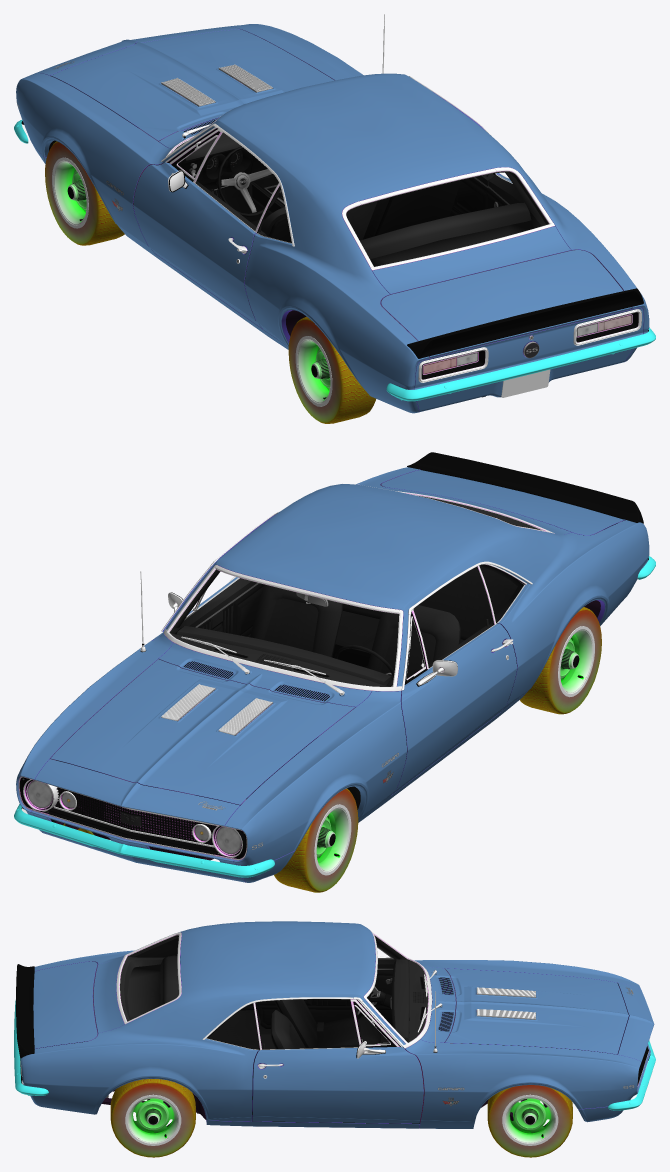
File: Unity2Skfb.gltf
3 views of the same model, one above another, from view 1: azimuth 30°, elevation 25°; view 2: azimuth 150°, elevation 25°; view 3: azimuth 270°, elevation 25° (orthographic). The views are drawn at different scales.
Parts seen in each view (by area): view 1: Chassis 6, FendersR 6, Hood 6, Interior 5, Boot 6, DoorL 4, FenderFL 6, BumperChassisR 6, Tire_Regular_L_FL 1 (×2), Spoiler 6, WheelFL 6 (×2), BumperR 6 (+6 smaller); view 2: Chassis 6, Hood 6, Interior 5, FenderFL 6, FendersR 6, Grille 1, DoorL 4, Tire_Regular_L_FL 1 (×2), Boot 6, Spoiler 6, FenderFR 6, WheelFL 6 (×2) (+3 smaller); view 3: Chassis 6, FendersR 6, DoorR 4, FenderFR 6, Hood 6, Interior 5, Tire_Regular_L_FL 1 (×2), Boot 6, WheelFL 6 (×2), FenderFL 6, DoorL 4, Grille 1 (+4 smaller).
Part boxes in pixels (x1,y1,x2,y2): Chassis 6: (51,14,632,397); FendersR 6: (155,174,649,413); Hood 6: (50,29,334,140); Interior 5: (174,132,548,266); Boot 6: (381,250,631,357); DoorL 4: (133,129,266,328); FenderFL 6: (16,73,172,260); BumperChassisR 6: (414,307,643,412); Tire_Regular_L_FL 1 (×2): (45,141,375,423); Spoiler 6: (407,288,643,358); WheelFL 6 (×2): (52,157,332,406); BumperR 6: (386,327,655,401); Chassis 6: (52,473,621,858); Hood 6: (50,659,355,804); Interior 5: (169,496,541,699); FenderFL 6: (225,691,406,865); FendersR 6: (356,467,649,802); Grille 1: (18,759,247,860); DoorL 4: (392,609,517,794); Tire_Regular_L_FL 1 (×2): (274,607,601,892); Boot 6: (381,470,625,535); Spoiler 6: (407,452,643,523); FenderFR 6: (16,633,172,816); WheelFL 6 (×2): (314,626,594,875); Chassis 6: (36,921,629,1120); FendersR 6: (20,950,419,1128); DoorR 4: (252,999,423,1123); FenderFR 6: (405,1039,641,1128); Hood 6: (445,968,629,1054); Interior 5: (120,935,428,1123); Tire_Regular_L_FL 1 (×2): (110,1079,572,1157); Boot 6: (33,961,97,1048); WheelFL 6 (×2): (125,1094,558,1145); FenderFL 6: (414,960,641,989); DoorL 4: (258,947,409,1028); Grille 1: (618,983,654,1086).
Size of what is drawn, in the model's own units: 1.9 by 1.33 by 4.71.
19 materials, 6 textured.
